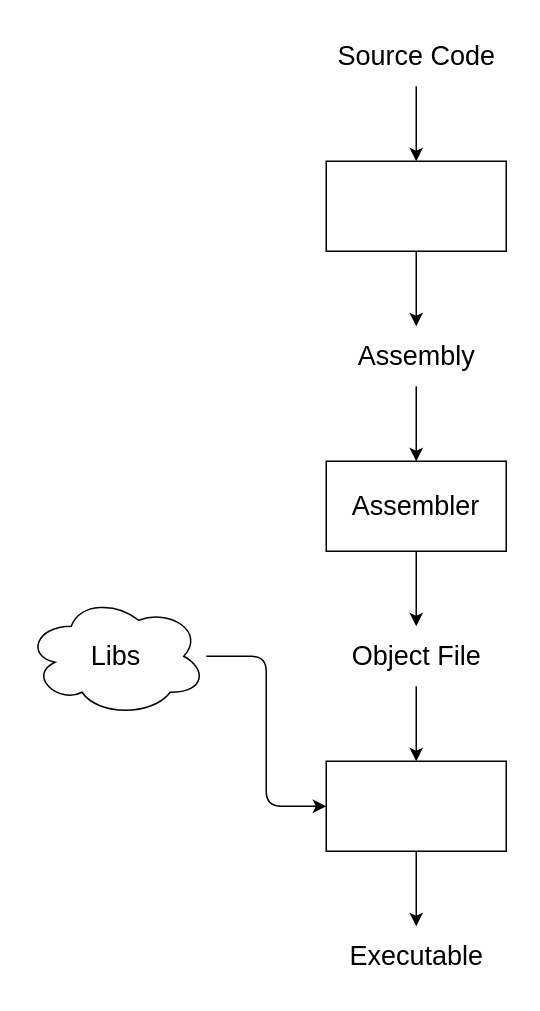
Some shapes in this 540 by 1011 pixel diagram are drawn without their labels. The centre of each missing label's shape, as x and y in pixels:
Compiler: the point at 415,205
Linux GNU Linker (LD): the point at 415,805
